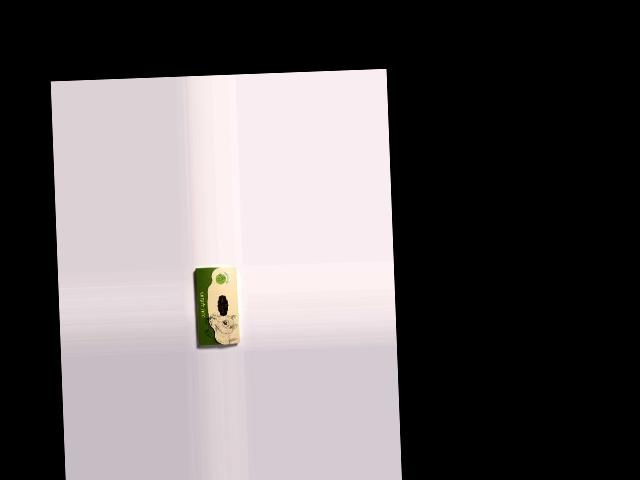chocolate: (194, 265, 240, 346)
